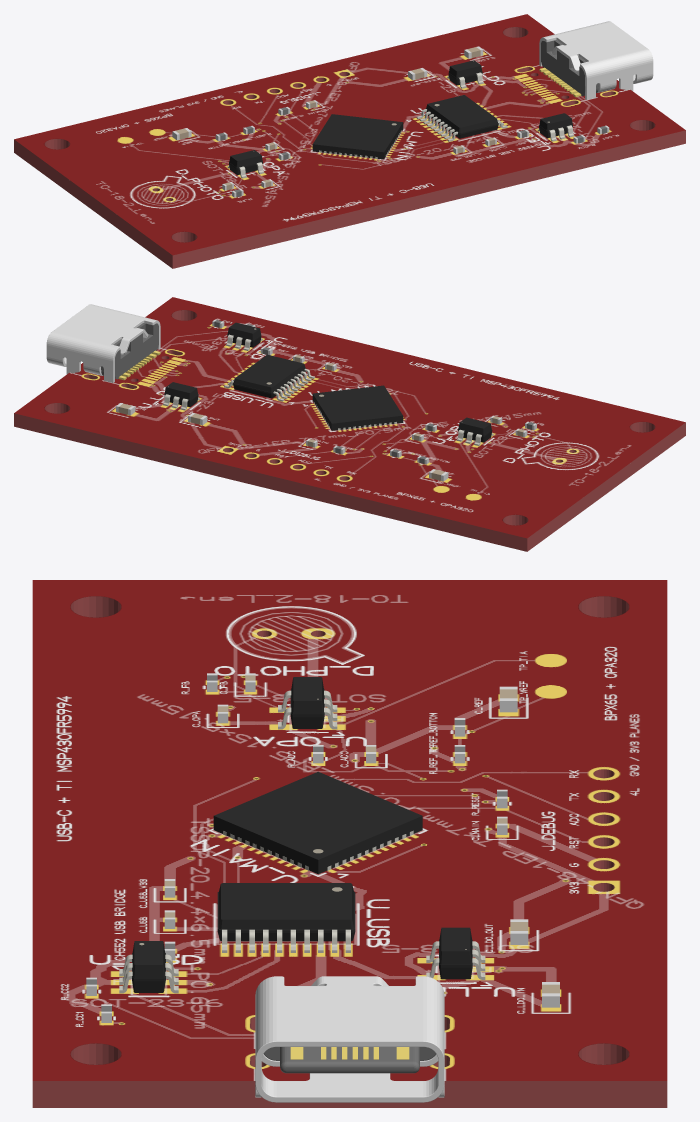
3 renders of one model, top to bottom at view 1: azimuth 30°, elevation 25°; view 2: azimuth 150°, elevation 25°; view 3: azimuth 270°, elevation 25°, orthographic. The views are drawn at different scales.
Visible parts, largest first — view 1: Box0, J1, U_MAIN, U_USB, U_ESD, U_LDO, U_OPA; view 2: Box0, J1, U_MAIN, U_USB, U_ESD, U_LDO, U_OPA; view 3: Box0, J1, U_MAIN, U_USB, U_ESD, U_LDO, U_OPA.
Part boxes in pixels (x1,y1,x2,y2): Box0: (14,14,685,268); J1: (539,21,653,99); U_MAIN: (312,114,403,159); U_USB: (416,95,507,141); U_ESD: (537,113,574,141); U_LDO: (447,60,483,88); U_OPA: (227,150,264,178); Box0: (14,297,685,551); J1: (46,304,160,382); U_MAIN: (312,385,403,430); U_USB: (224,354,314,401); U_ESD: (226,322,262,350); U_LDO: (163,382,199,410); U_OPA: (456,417,493,445); Box0: (32,580,667,1107); J1: (255,976,444,1102); U_MAIN: (213,771,422,874); U_USB: (217,883,355,952); U_ESD: (119,941,178,993); U_LDO: (426,927,485,979); U_OPA: (278,677,337,729).
Size of the model in its own units: 58.54 by 4.65 by 30.
13 materials, 2 textured.
